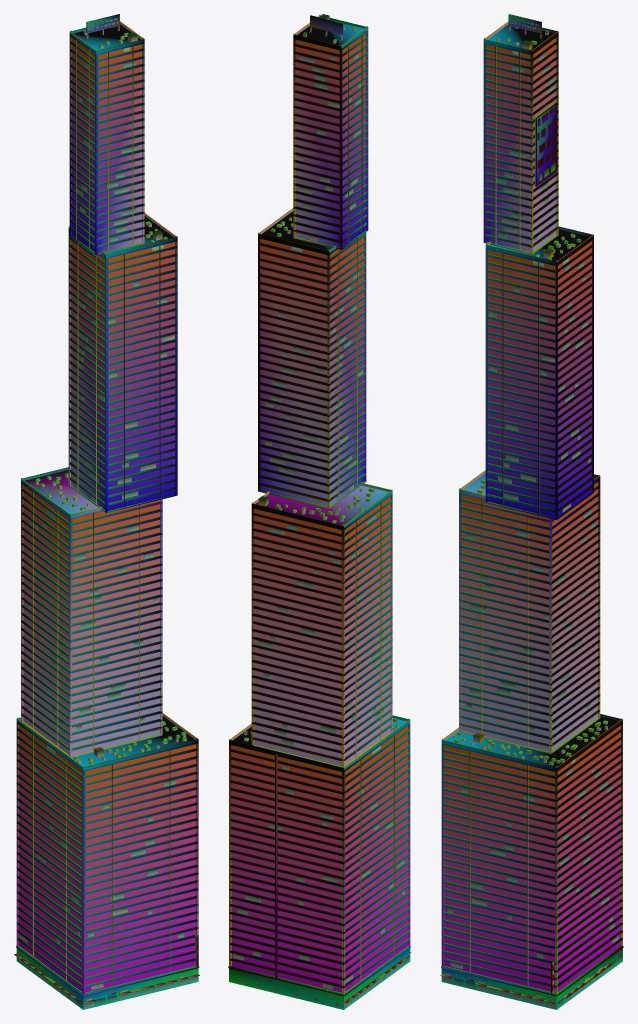
File: Tower_Stepped_V14.fbx
3 renders of one model, left to right at view 1: azimuth 30°, elevation 25°; view 2: azimuth 150°, elevation 25°; view 3: azimuth 330°, elevation 25°, orthographic.
Visible parts, largest first — view 1: Tower_Stepped_V14_LOD0; view 2: Tower_Stepped_V14_LOD0; view 3: Tower_Stepped_V14_LOD0.
Part boxes in pixels (x1,y1,x2,y2): Tower_Stepped_V14_LOD0: [14, 14, 199, 1009]; Tower_Stepped_V14_LOD0: [228, 14, 411, 1009]; Tower_Stepped_V14_LOD0: [440, 14, 623, 1009].
Size of what is drawn, in the model's own units: 58.8 by 443 by 58.28.
